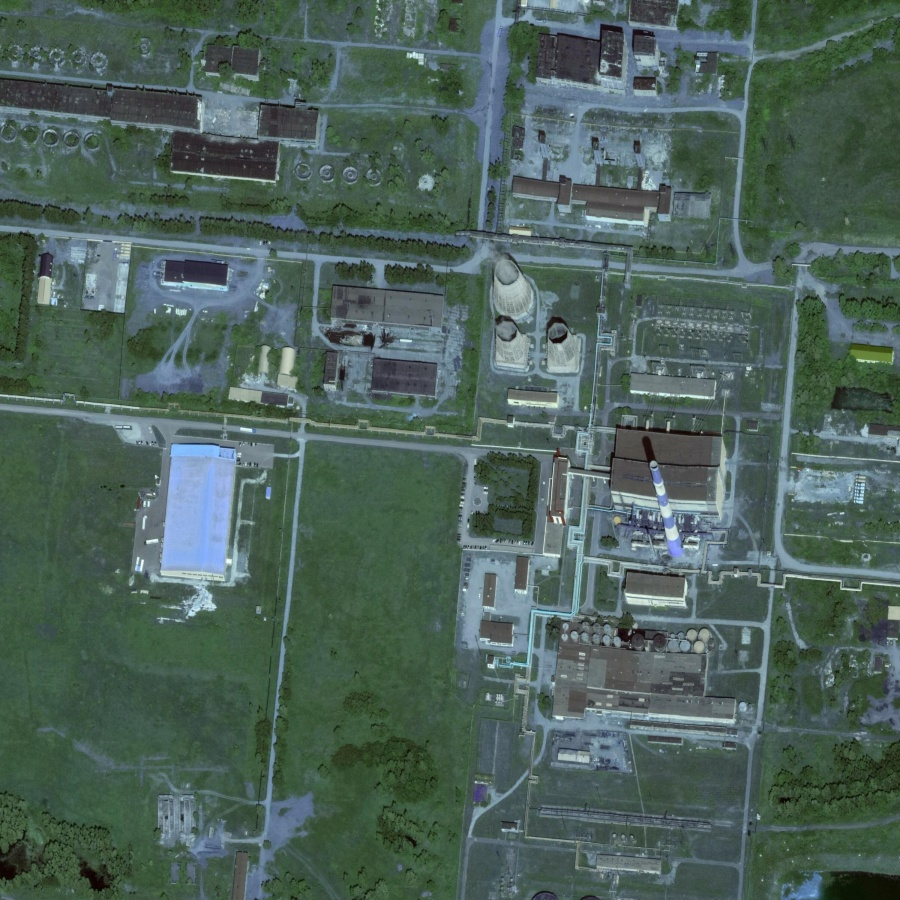PowerPlant: (464, 249, 757, 608)
